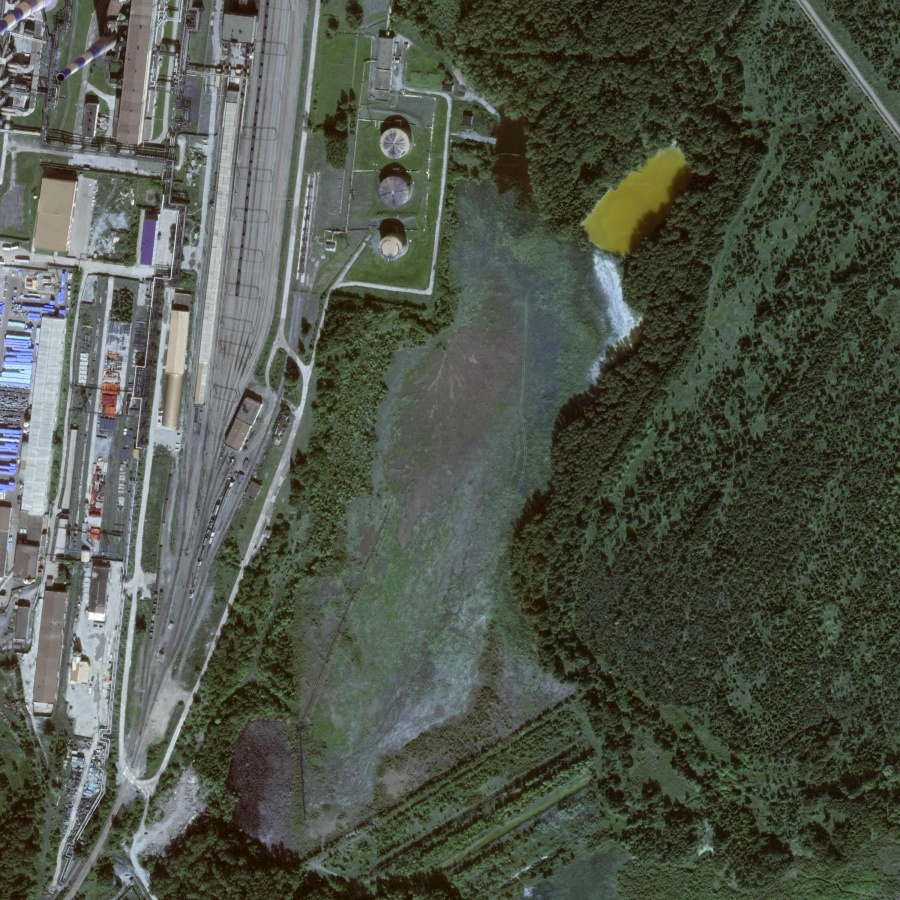PowerPlant: (301, 101, 449, 276)
